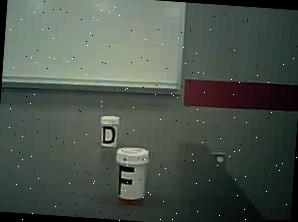Bottle D: (94, 112, 124, 150)
Bottle F: (112, 146, 154, 210)
